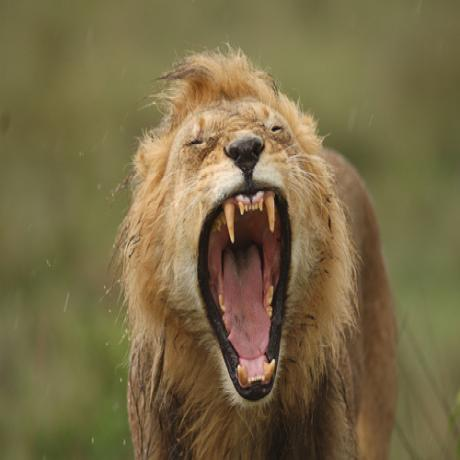Lion: (118, 46, 401, 460)
